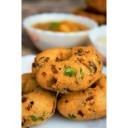vada: (33, 46, 101, 88), (53, 78, 107, 119), (22, 72, 55, 126)
